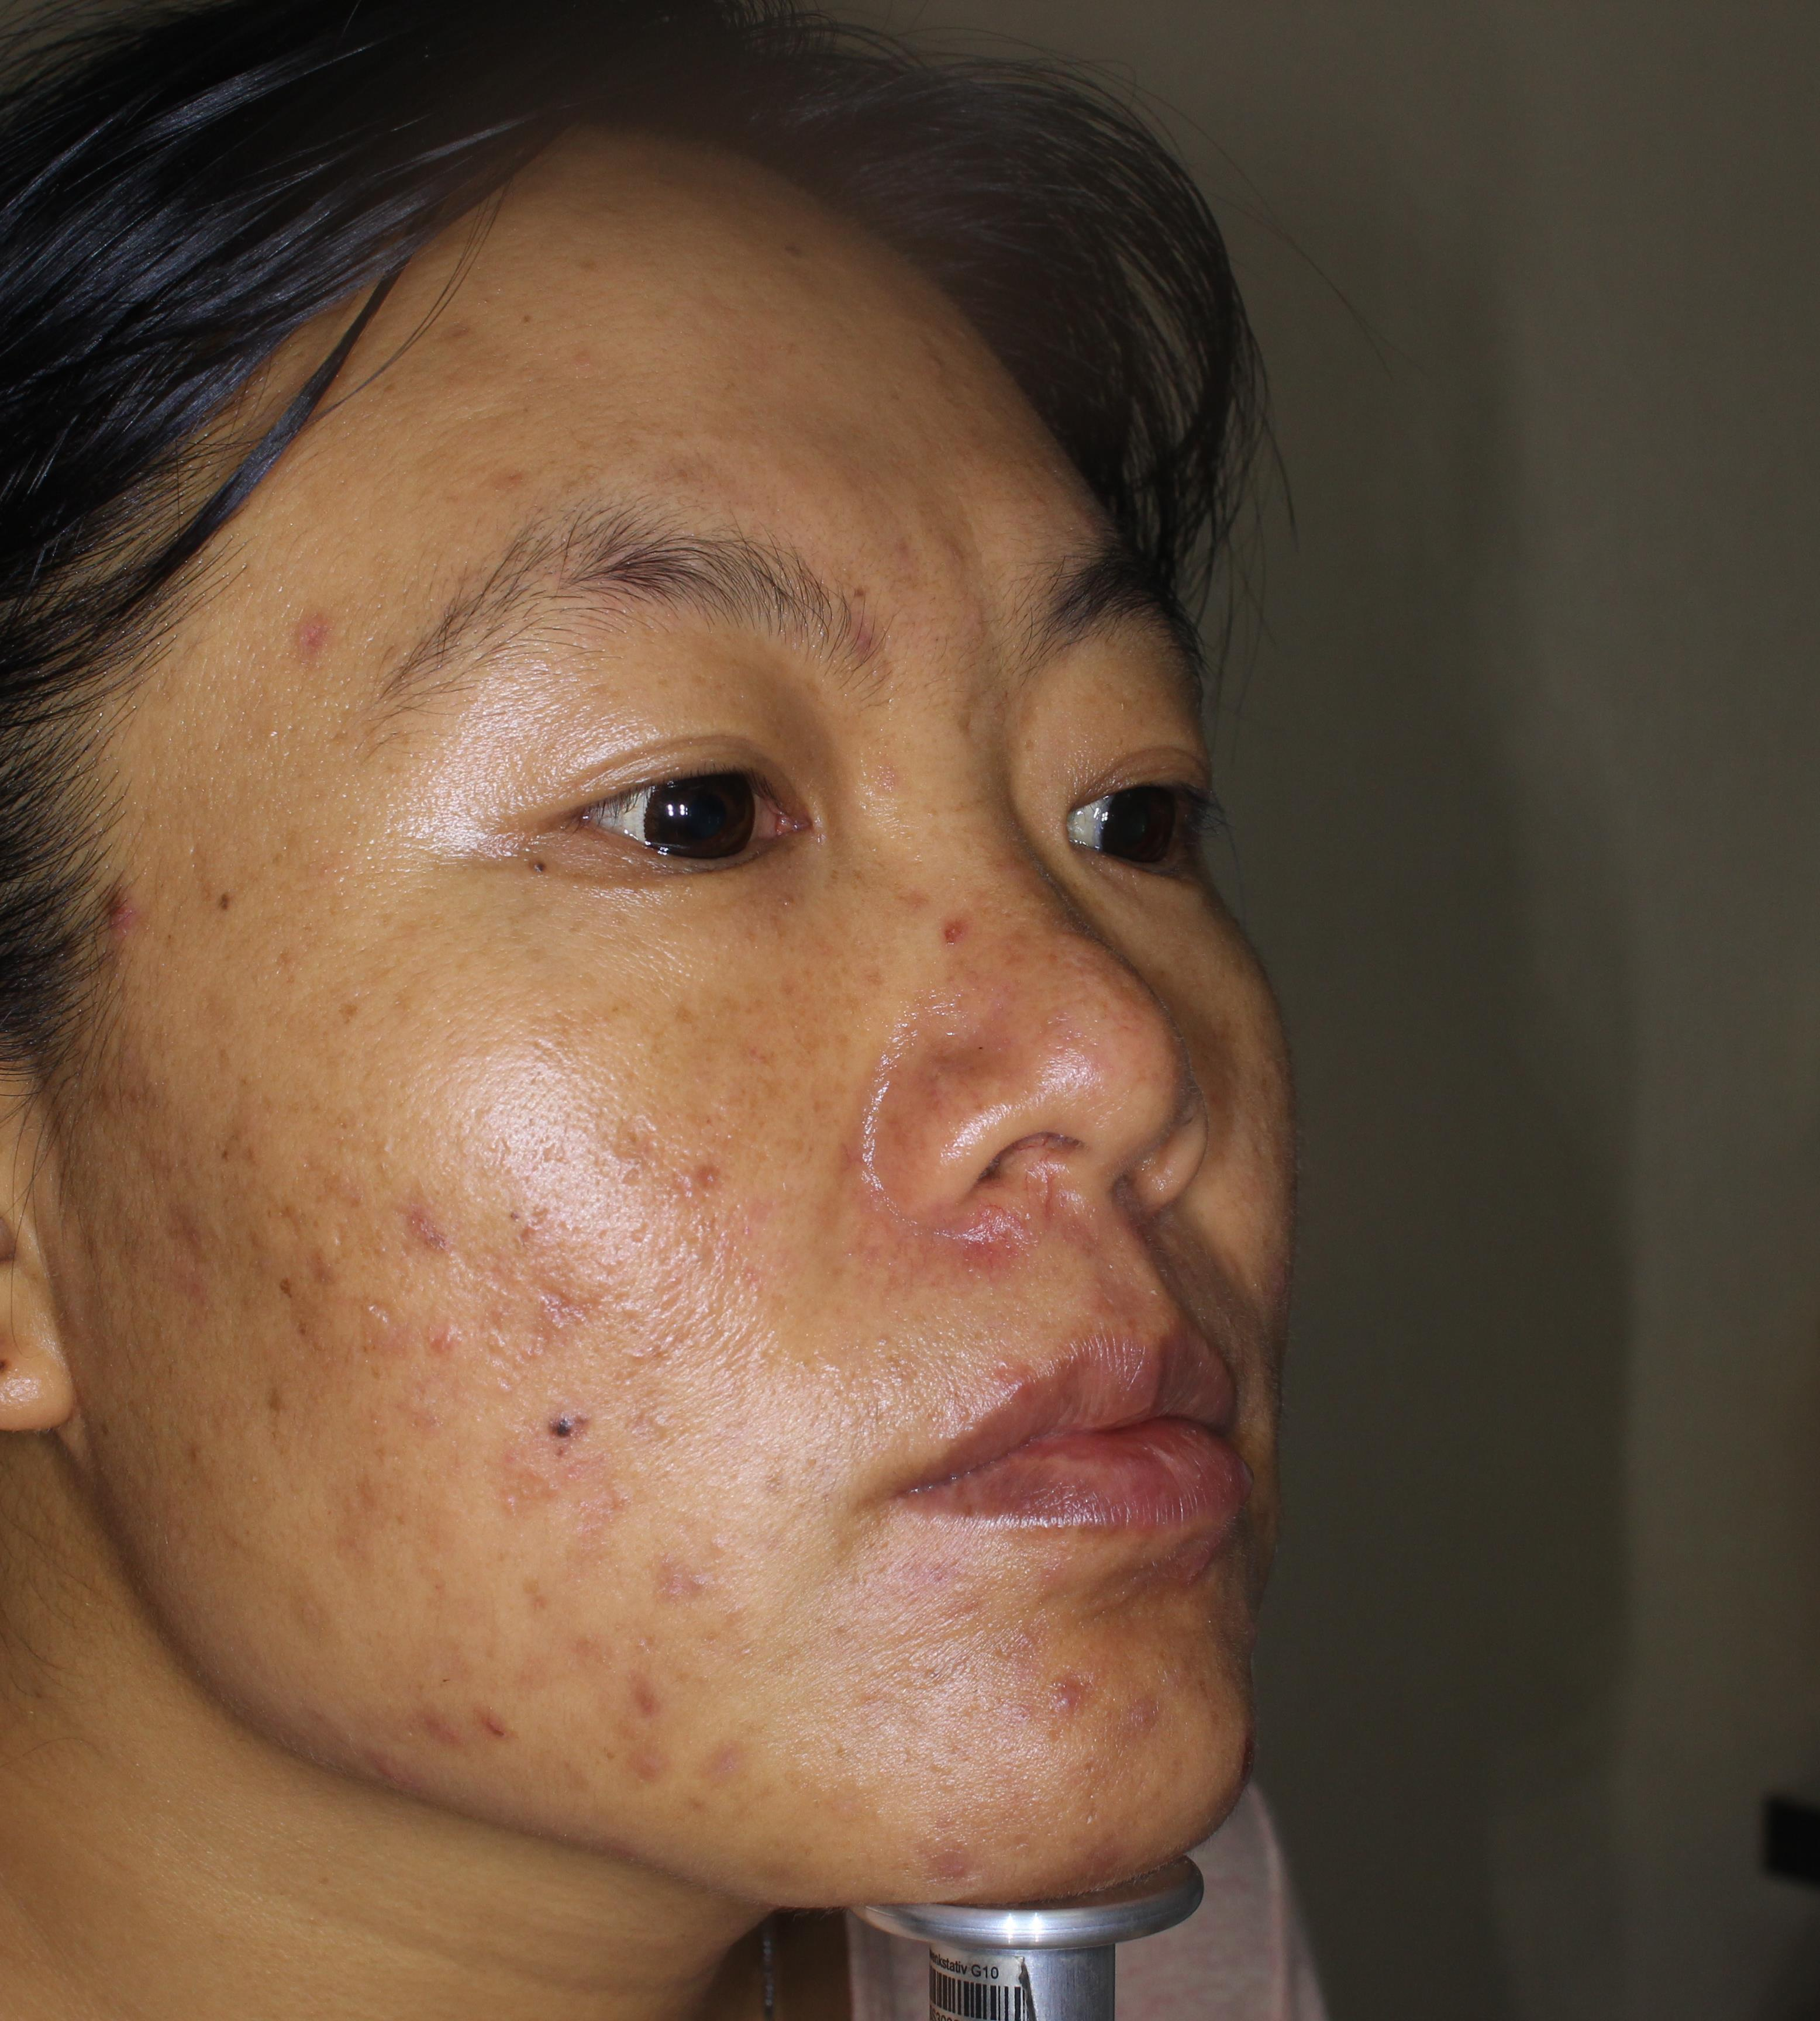fore: (404, 1687, 502, 1768), (901, 1805, 982, 1895), (516, 1254, 589, 1347), (158, 1196, 225, 1280), (351, 1303, 422, 1378), (606, 1658, 673, 1737), (91, 864, 149, 953), (378, 1176, 453, 1245), (1014, 1658, 1082, 1733), (271, 604, 337, 671), (629, 1728, 682, 1805), (297, 1231, 337, 1298), (511, 1456, 543, 1531)
